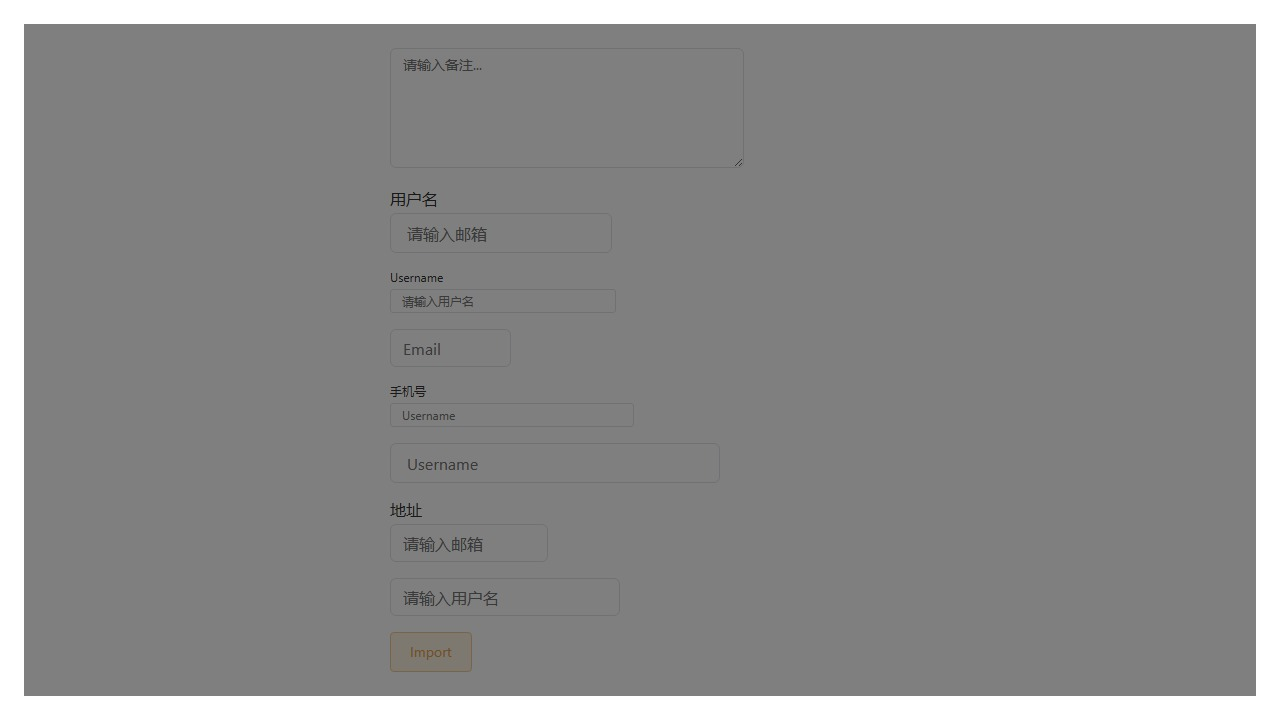button: (390, 632, 472, 672)
input: (390, 443, 720, 483), (390, 213, 612, 253), (390, 578, 620, 616), (390, 524, 548, 562), (390, 403, 634, 427), (390, 289, 616, 313), (390, 329, 511, 367)
modal: (24, 24, 1256, 696)
textarea: (390, 48, 744, 168)
